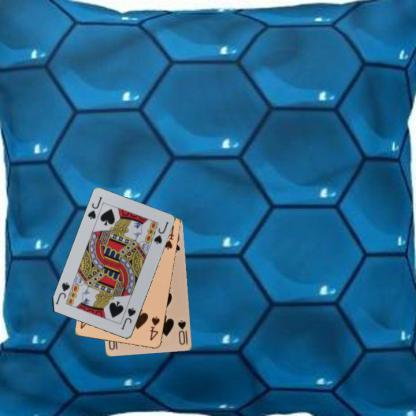10s: (175, 318, 189, 347)
4s: (148, 314, 162, 342)
Js: (84, 194, 104, 221), (118, 305, 137, 331)
